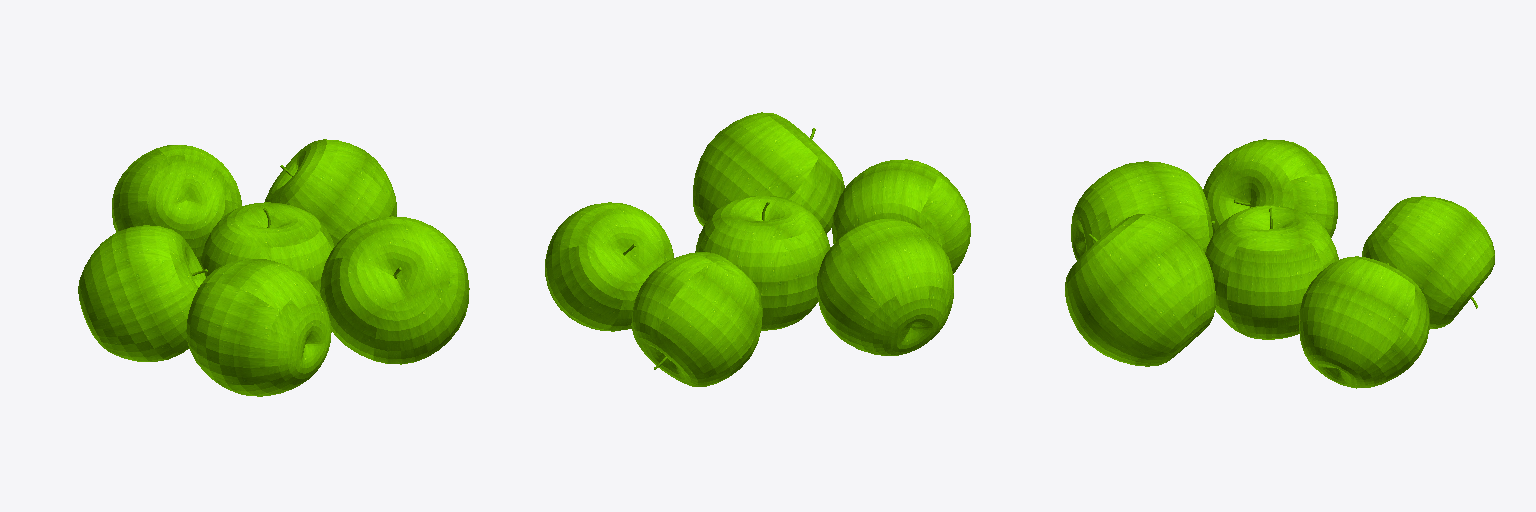
3 views of the same model, side by side, from view 1: azimuth 30°, elevation 25°; view 2: azimuth 150°, elevation 25°; view 3: azimuth 270°, elevation 25° (orthographic).
Visible parts, largest first — view 1: apple:F04_Green_apple_7; view 2: apple:F04_Green_apple_7; view 3: apple:F04_Green_apple_7.
Part boxes in pixels (bbox=[...]): apple:F04_Green_apple_7: bbox=[78, 139, 469, 396]; apple:F04_Green_apple_7: bbox=[545, 112, 970, 386]; apple:F04_Green_apple_7: bbox=[1065, 139, 1494, 388].
Bounding box in the file's own units: 60.04 × 22.67 × 64.67.
Materials: 1 (1 with a texture image).